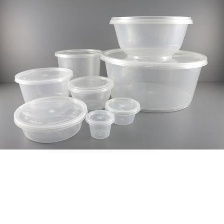plastic_box: (94, 43, 212, 117), (105, 9, 197, 64), (10, 91, 91, 147), (10, 63, 78, 106), (64, 72, 116, 114), (51, 45, 105, 84), (100, 93, 144, 128), (82, 105, 117, 142)
